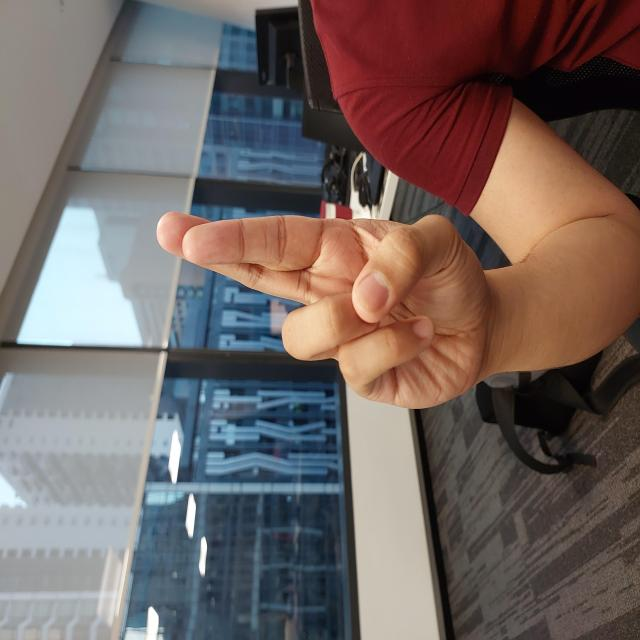R: (228, 154, 432, 498)
